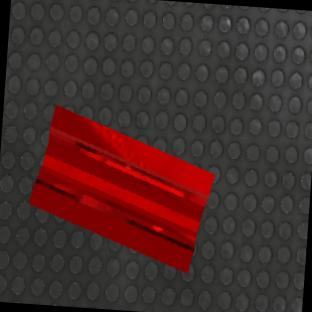objects: (11, 101, 231, 277)
